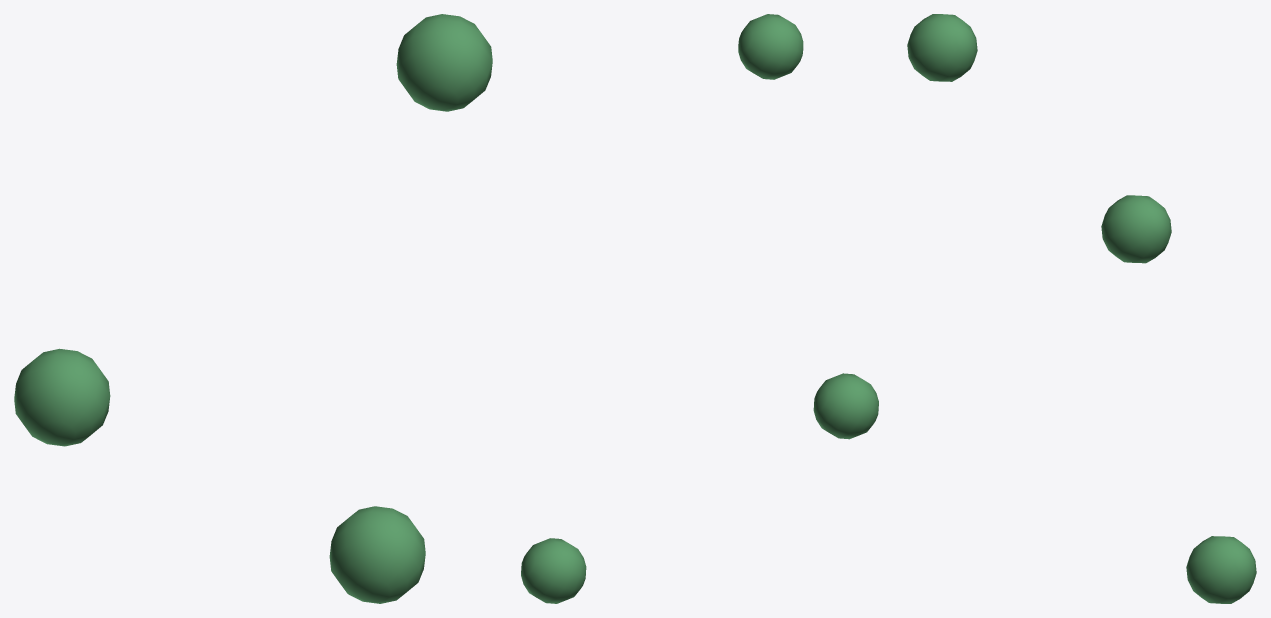
3 renders of one model, left to right at view 1: azimuth 30°, elevation 25°; view 2: azimuth 150°, elevation 25°; view 3: azimuth 270°, elevation 25°, orthographic. The views are drawn at different scales.
Visible parts, largest first — view 1: 头臂淋巴结; view 2: 头臂淋巴结; view 3: 头臂淋巴结.
Part boxes in pixels (left/top/right/bottom): 头臂淋巴结: left=14, top=14, right=492, bottom=603; 头臂淋巴结: left=521, top=14, right=878, bottom=603; 头臂淋巴结: left=907, top=14, right=1256, bottom=603.
Size of the model in its own units: 0.0206 by 0.0324 by 0.019.
